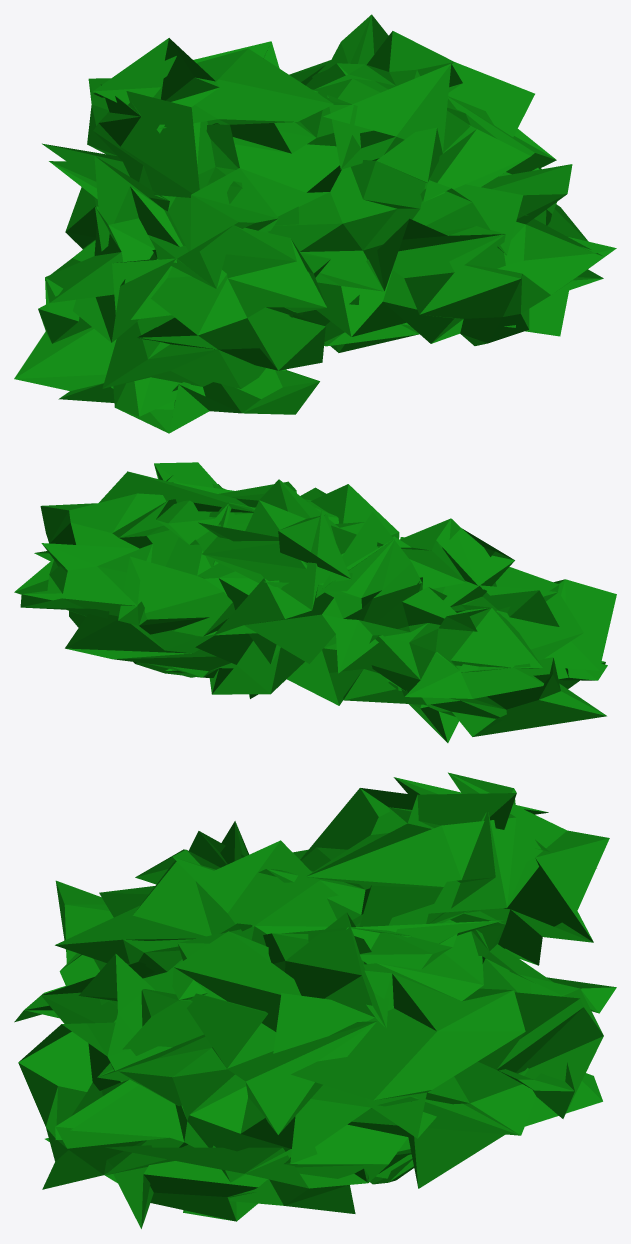
File: Grass.fbx
3 views of the same model, one above another, from view 1: azimuth 30°, elevation 25°; view 2: azimuth 150°, elevation 25°; view 3: azimuth 270°, elevation 25° (orthographic). The views are drawn at different scales.
Visible parts, largest first — view 1: Mball.006; view 2: Mball.006; view 3: Mball.006.
Part boxes in pixels (<box>): Mball.006: <box>14,14,616,433</box>; Mball.006: <box>14,462,616,742</box>; Mball.006: <box>14,772,616,1228</box>.
Bounding box in the file's own units: 60.62 × 26.39 × 44.2.
